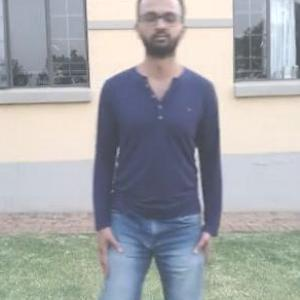follow: (140, 10, 248, 299)
